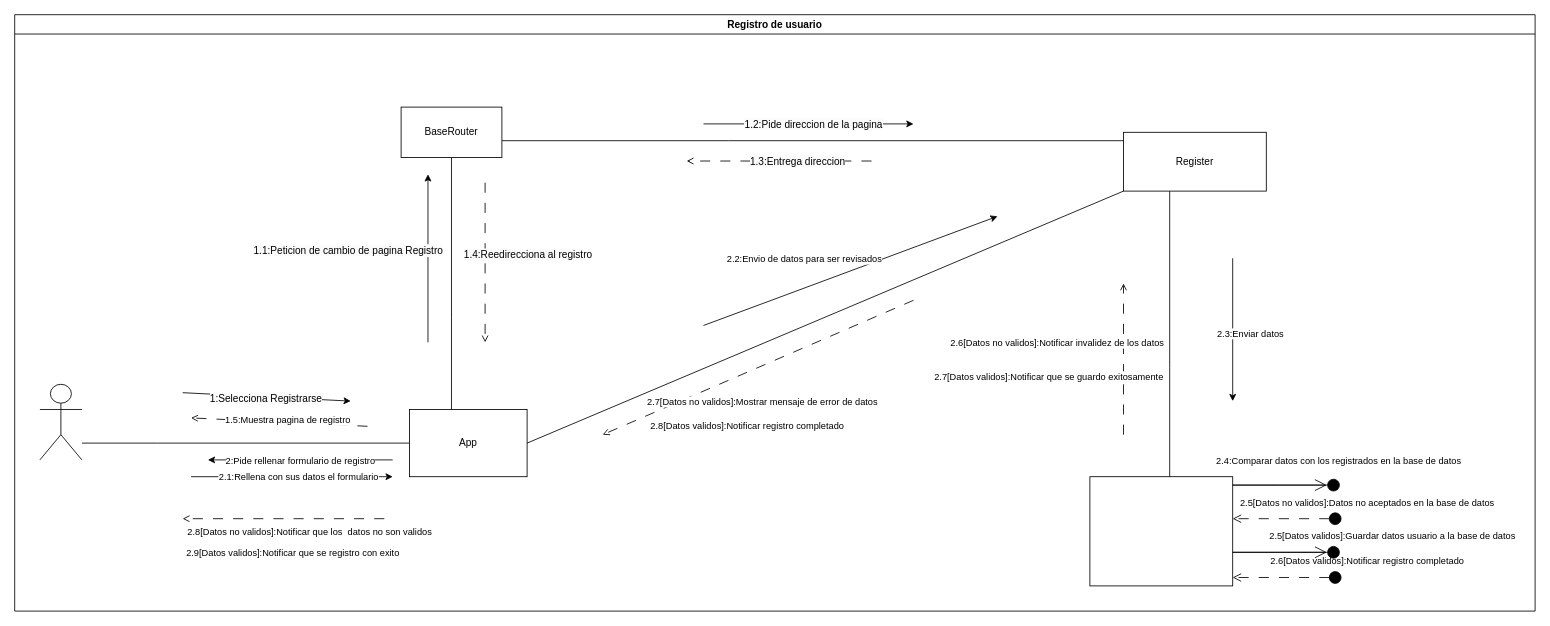
Some shapes in this 1550 by 626 pixel diagram are drawn without their labels. Each missing label, with the centre of its shape:
API: (x=1161, y=531)
Usuario: (x=60, y=421)
